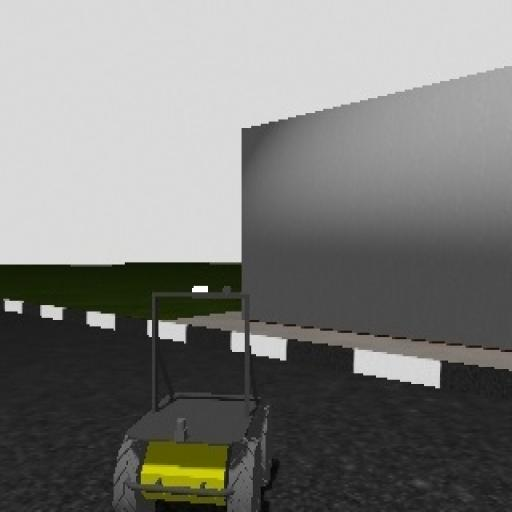huskya200: (92, 256, 288, 512)
